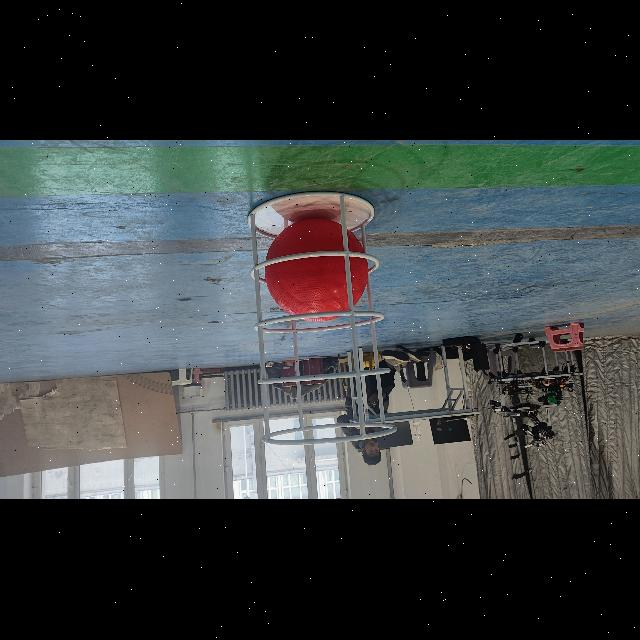R: (266, 218, 368, 322)
S: (243, 185, 403, 452)
